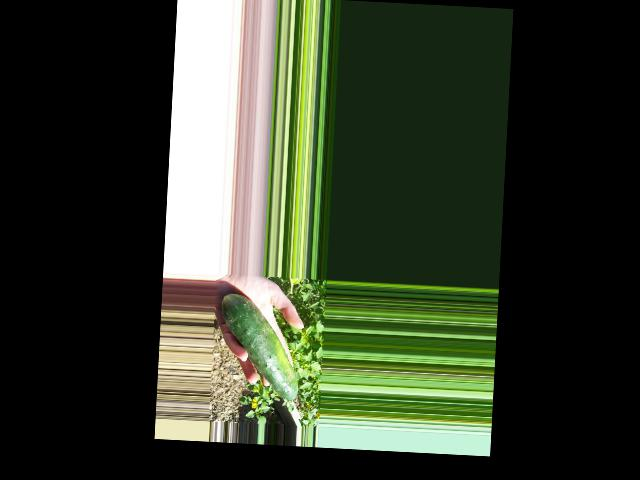cucumber: (217, 293, 302, 401)
